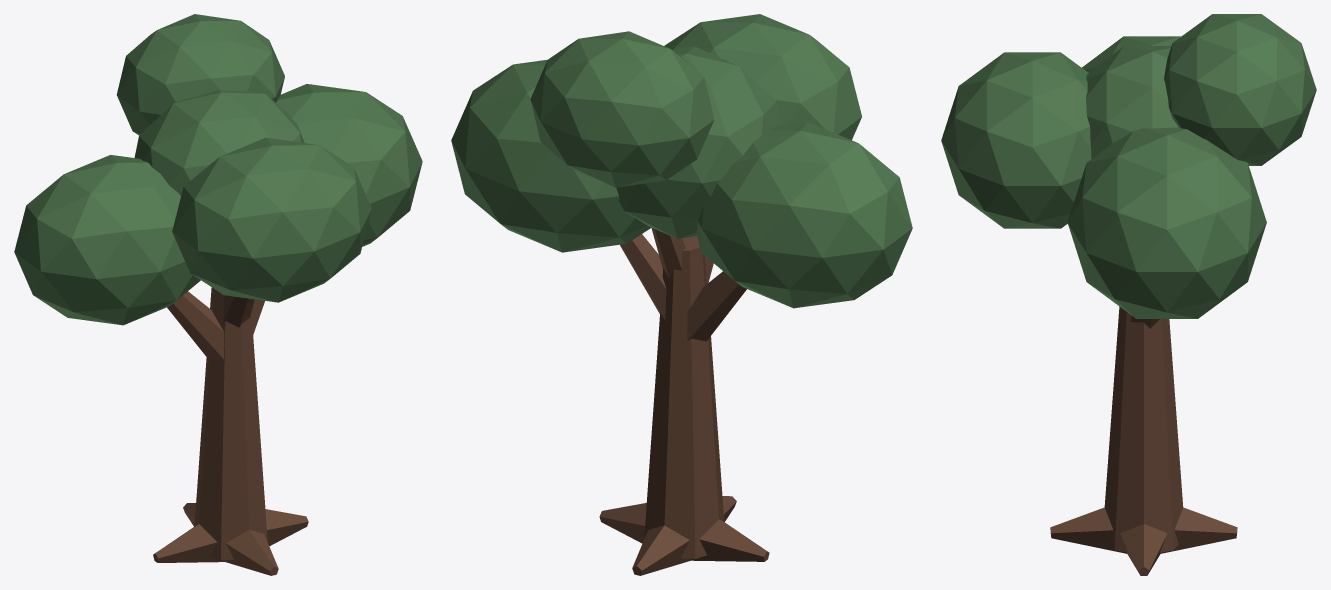
File: xingyin-environment-v2__forest-trees__tree_oak.glb
3 views of the same model, side by side, from view 1: azimuth 30°, elevation 25°; view 2: azimuth 150°, elevation 25°; view 3: azimuth 270°, elevation 25° (orthographic). The views are drawn at different scales.
Parts seen in each view (by area): view 1: tree_oak; view 2: tree_oak; view 3: tree_oak.
Part boxes in pixels (box(x1,y1,x2,y2)): tree_oak: box(14, 14, 422, 575); tree_oak: box(451, 14, 912, 575); tree_oak: box(941, 14, 1316, 575).
Bounding box in the file's own units: 2.89 × 3.54 × 2.26.
